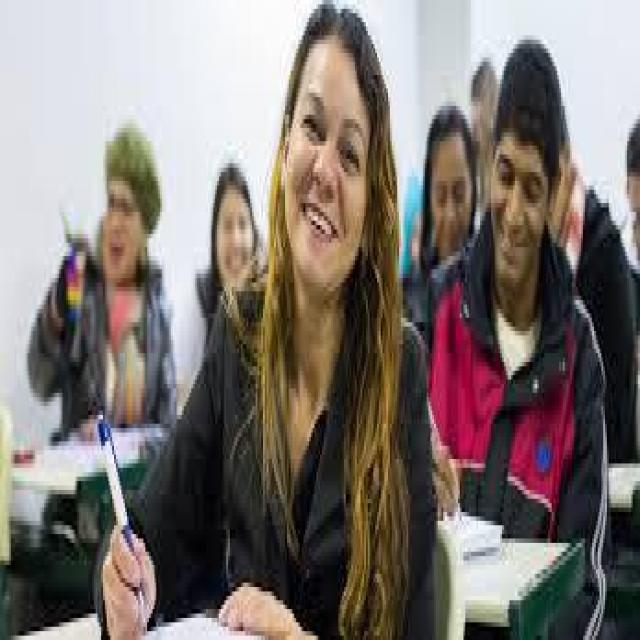person: (110, 0, 423, 636), (454, 9, 607, 609), (39, 97, 182, 468), (180, 66, 265, 340), (401, 79, 480, 309)
